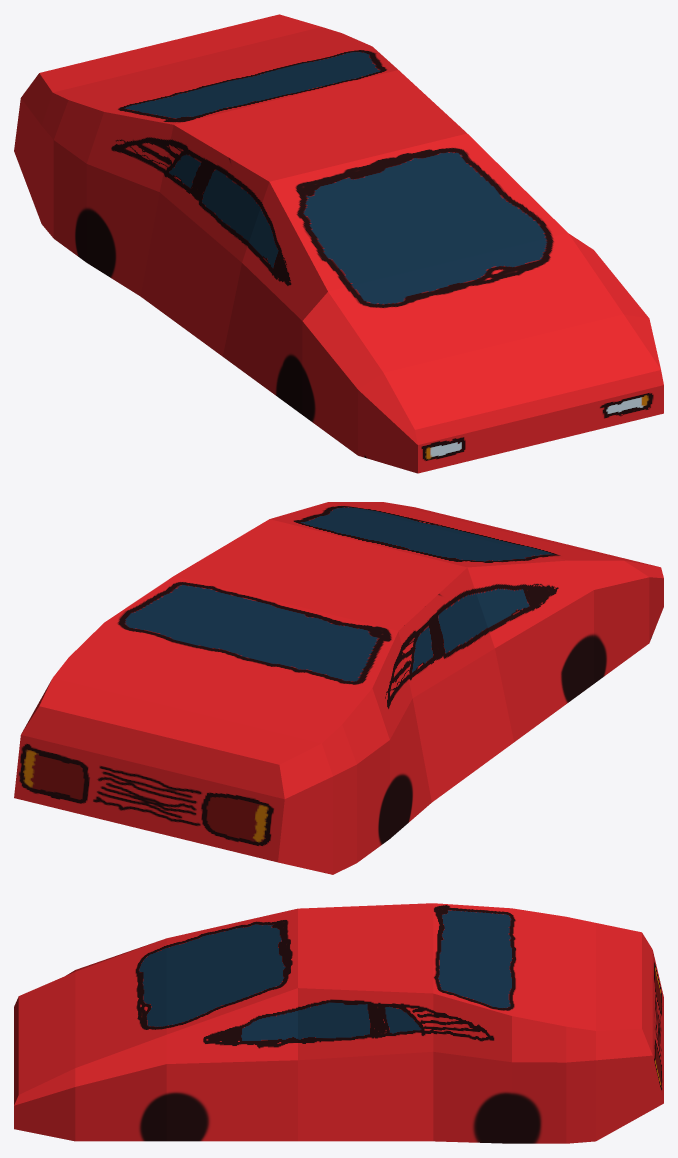
File: car.glb
The picture shows the model from 3 angles, top to bottom: view 1: azimuth 30°, elevation 25°; view 2: azimuth 150°, elevation 25°; view 3: azimuth 270°, elevation 25°; orthographic projection. The views are drawn at different scales.
Parts seen in each view (by area): view 1: Cube.001; view 2: Cube.001; view 3: Cube.001.
Boxes of the visible parts, x1,y1,x2,y2 form: Cube.001: (14,14,663,473); Cube.001: (14,502,663,874); Cube.001: (14,903,663,1143).
Size of the model in its own units: 0.8 by 0.4123 by 1.81.
1 material, 1 textured.
